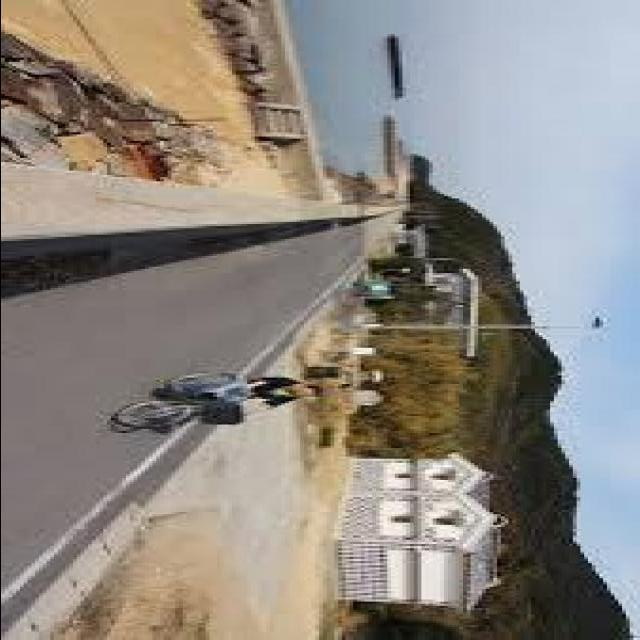bicycle: (111, 379, 255, 437)
